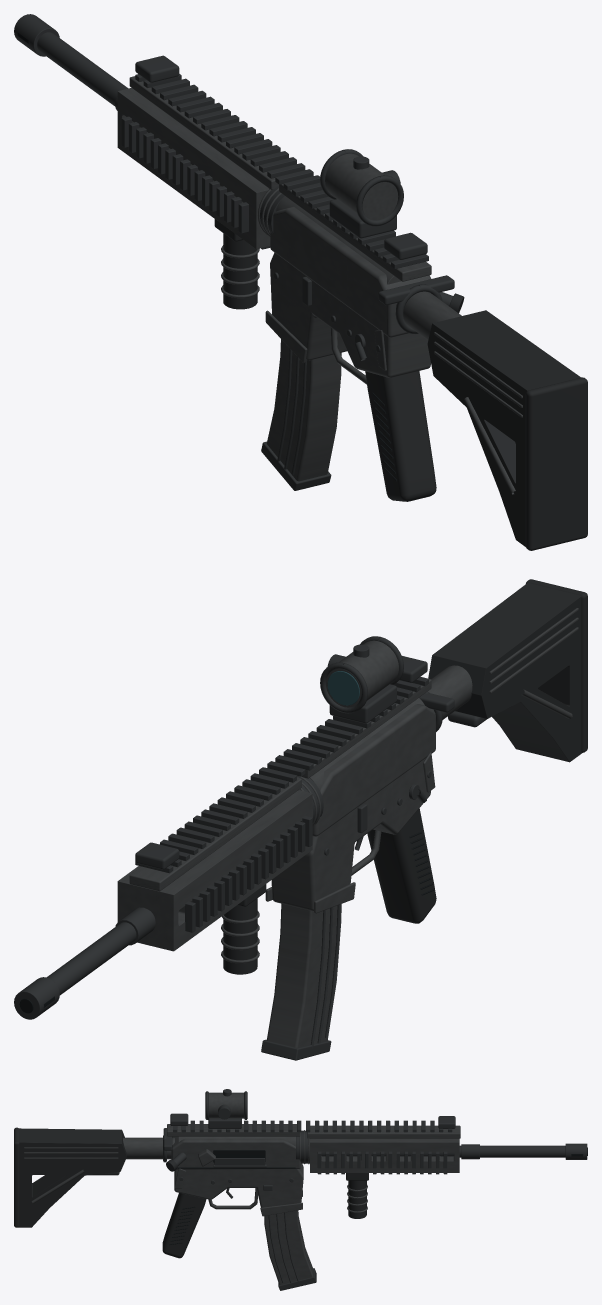
The model's file is golani-rifle-master.glb.
3 views of the same model, one above another, from view 1: azimuth 30°, elevation 25°; view 2: azimuth 150°, elevation 25°; view 3: azimuth 270°, elevation 25° (orthographic). The views are drawn at different scales.
Parts seen in each view (by area): view 1: M4 sliding stock body, M4 stock butt pad, M4 lower receiver, M4 upper receiver shoulders, M4 curved box magazine, M4 ergonomic pistol grip, M4 rail handguard core, M4 compact optic housing, M4 visible barrel inside handguard, M4 short vertical foregrip, M4 handguard top rail, M4 receiver top rail (+10 smaller); view 2: M4 sliding stock body, M4 rail handguard core, M4 curved box magazine, M4 lower receiver, M4 upper receiver shoulders, M4 ergonomic pistol grip, M4 handguard top rail, M4 visible barrel inside handguard, M4 compact optic housing, M4 short vertical foregrip, M4 stock butt pad, M4 exposed stock tube (+10 smaller); view 3: M4 sliding stock body, M4 rail handguard core, M4 lower receiver, M4 upper receiver shoulders, M4 curved box magazine, M4 ergonomic pistol grip, M4 handguard top rail, M4 visible barrel inside handguard, M4 receiver top rail, M4 exposed stock tube, M4 compact optic housing, M4 short vertical foregrip (+11 smaller).
Boxes of the visible parts, x1,y1,x2,y2 form: M4 sliding stock body: [427, 310, 580, 546]; M4 stock butt pad: [525, 377, 587, 550]; M4 lower receiver: [270, 252, 430, 377]; M4 upper receiver shoulders: [270, 207, 431, 337]; M4 curved box magazine: [266, 339, 341, 481]; M4 ergonomic pistol grip: [365, 371, 436, 501]; M4 rail handguard core: [117, 88, 270, 249]; M4 compact optic housing: [325, 153, 398, 220]; M4 visible barrel inside handguard: [37, 32, 128, 106]; M4 short vertical foregrip: [223, 233, 257, 309]; M4 handguard top rail: [129, 76, 278, 189]; M4 receiver top rail: [279, 184, 431, 281]; M4 sliding stock body: [428, 583, 582, 762]; M4 rail handguard core: [117, 790, 312, 951]; M4 curved box magazine: [267, 903, 341, 1047]; M4 lower receiver: [271, 758, 430, 911]; M4 upper receiver shoulders: [312, 704, 435, 836]; M4 ergonomic pistol grip: [367, 808, 436, 923]; M4 handguard top rail: [129, 777, 301, 891]; M4 visible barrel inside handguard: [47, 910, 154, 995]; M4 compact optic housing: [326, 640, 398, 707]; M4 short vertical foregrip: [223, 898, 257, 974]; M4 stock butt pad: [526, 579, 587, 752]; M4 exposed stock tube: [428, 665, 472, 719]; M4 sliding stock body: [18, 1128, 126, 1227]; M4 rail handguard core: [310, 1138, 459, 1172]; M4 lower receiver: [174, 1163, 303, 1207]; M4 upper receiver shoulders: [171, 1136, 300, 1169]; M4 curved box magazine: [264, 1210, 313, 1284]; M4 ergonomic pistol grip: [162, 1193, 206, 1258]; M4 handguard top rail: [307, 1125, 460, 1138]; M4 visible barrel inside handguard: [321, 1145, 565, 1157]; M4 receiver top rail: [167, 1124, 300, 1136]; M4 exposed stock tube: [123, 1137, 174, 1159]; M4 compact optic housing: [209, 1092, 243, 1118]; M4 short vertical foregrip: [348, 1180, 366, 1218].
Bounding box in the file's own units: 0.0766 × 0.3018 × 0.802.
5 materials, 1 textured.
